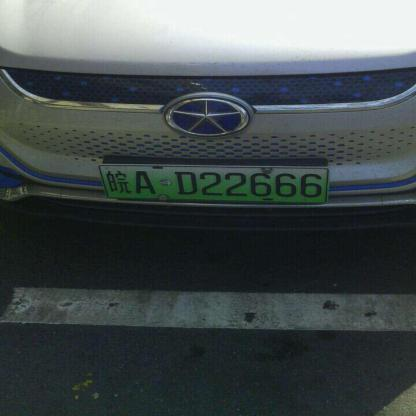lp: (101, 166, 327, 200)
